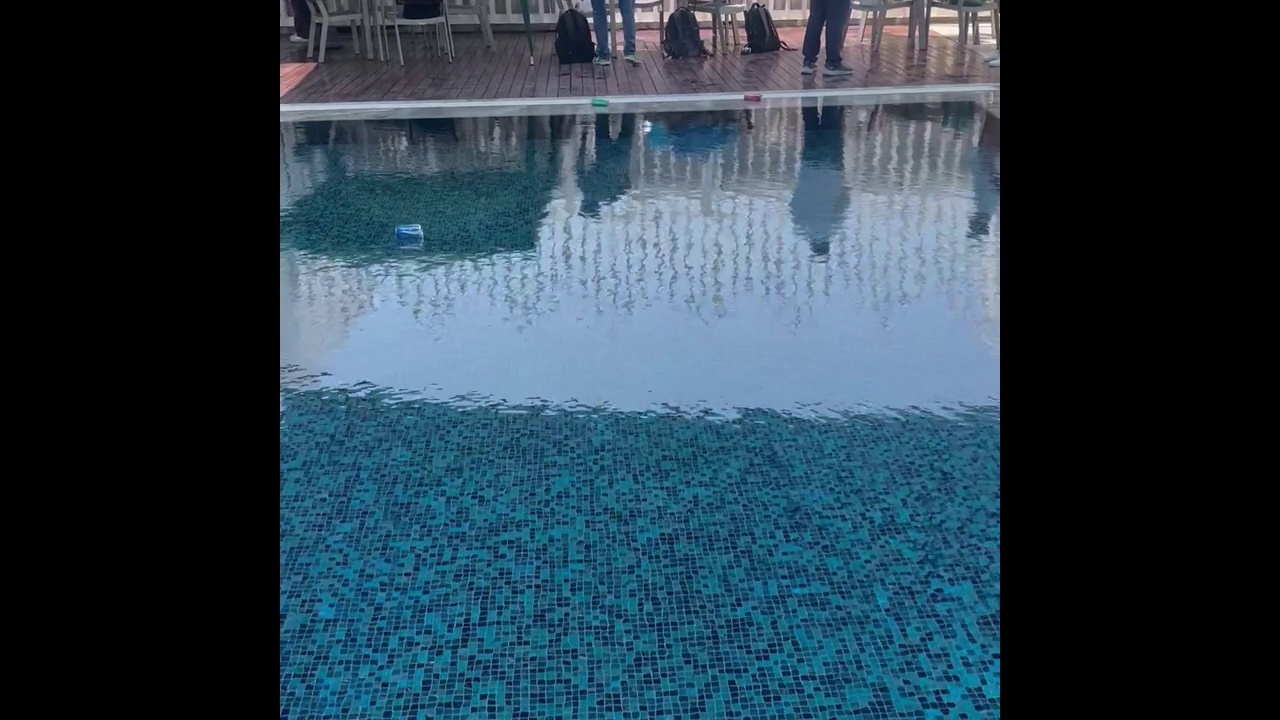debris: (389, 221, 426, 250), (587, 95, 612, 110), (741, 91, 764, 105)
